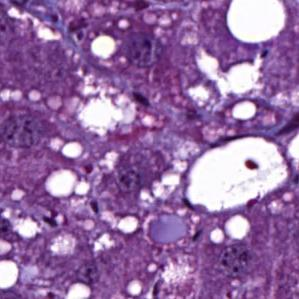ballooning: (184, 133, 290, 218)
